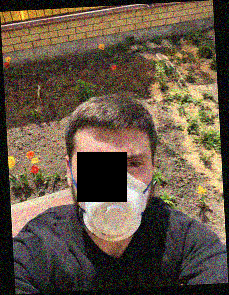with_mask: (74, 138, 153, 243)
